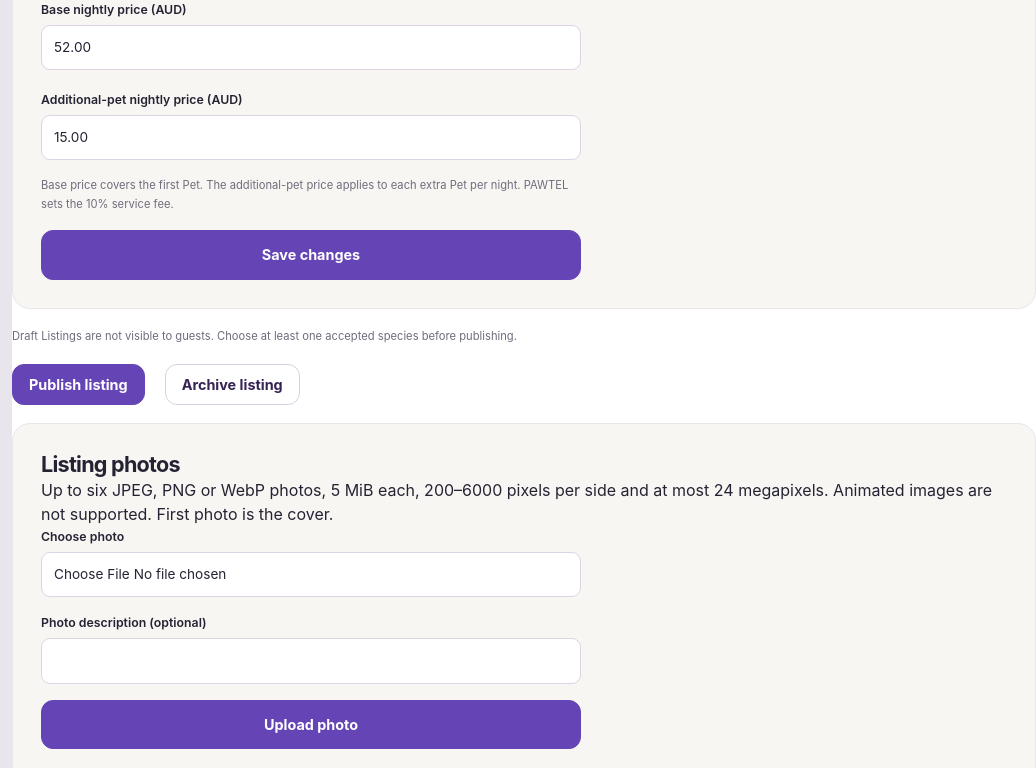
Scenario: surfaces backend listing_not_ready errors
(page scrolled)
Click the button "Publish listing": (78, 384) [12,364,145,405]
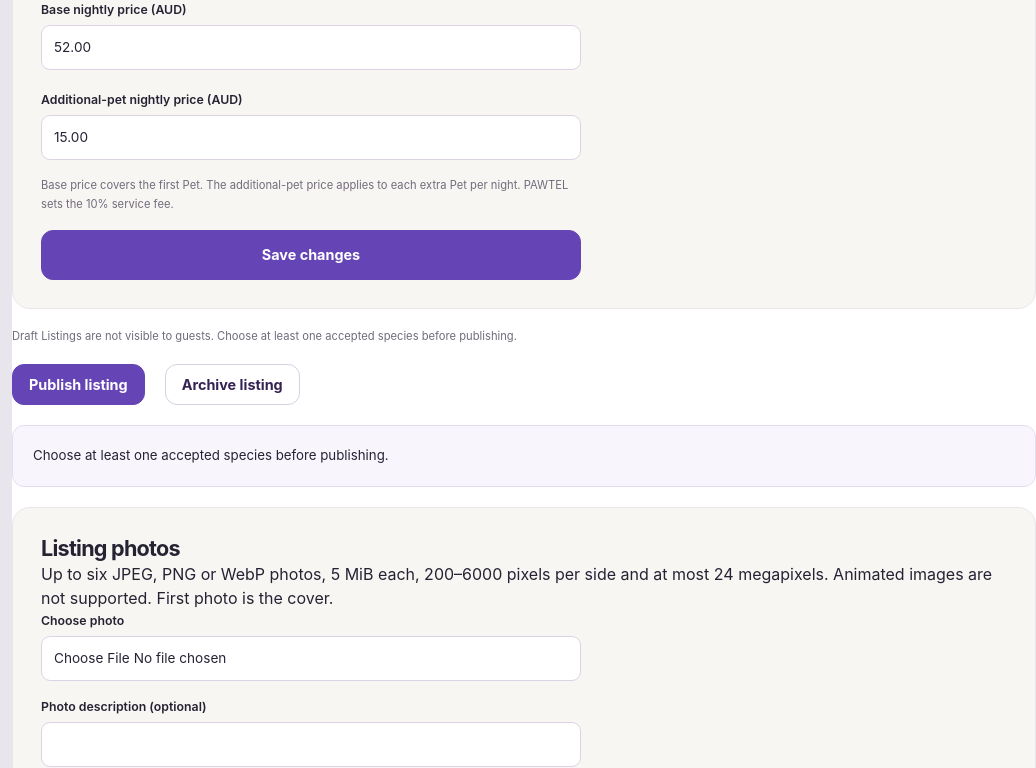
Now the message shows "accepted species", box [33,447,389,463]
